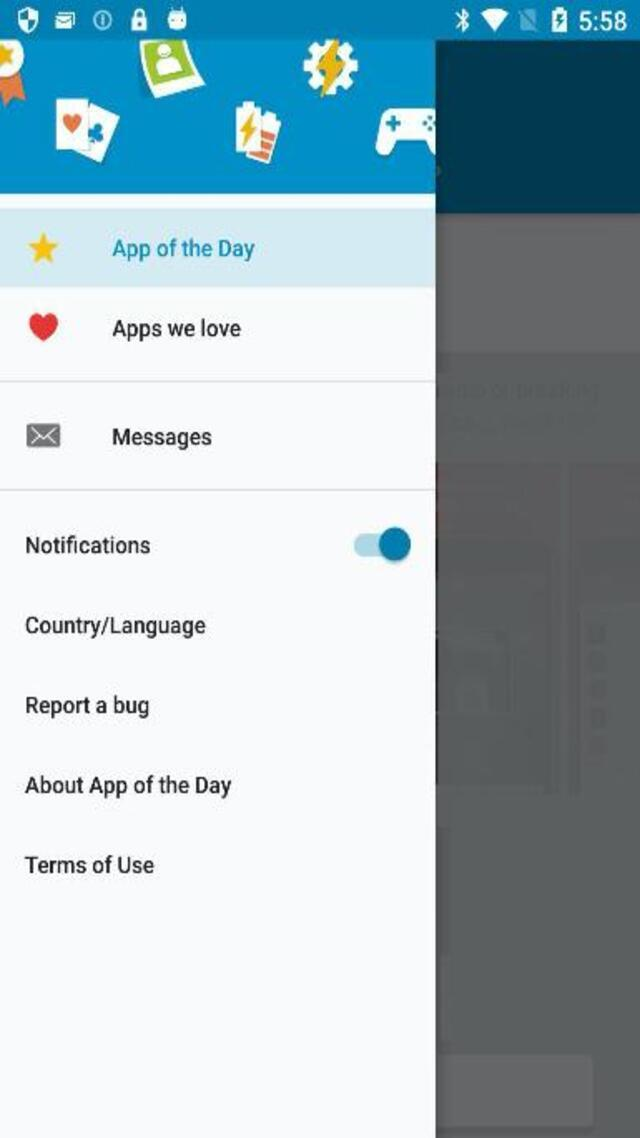CheckedTextView: (351, 526, 412, 564)
Icon: (28, 231, 58, 263), (28, 313, 58, 341), (26, 424, 60, 447)
Text: (25, 774, 231, 798), (26, 616, 207, 639), (112, 238, 255, 263), (111, 319, 241, 342), (25, 694, 148, 718), (25, 854, 155, 874), (26, 534, 150, 554), (113, 428, 213, 450)
